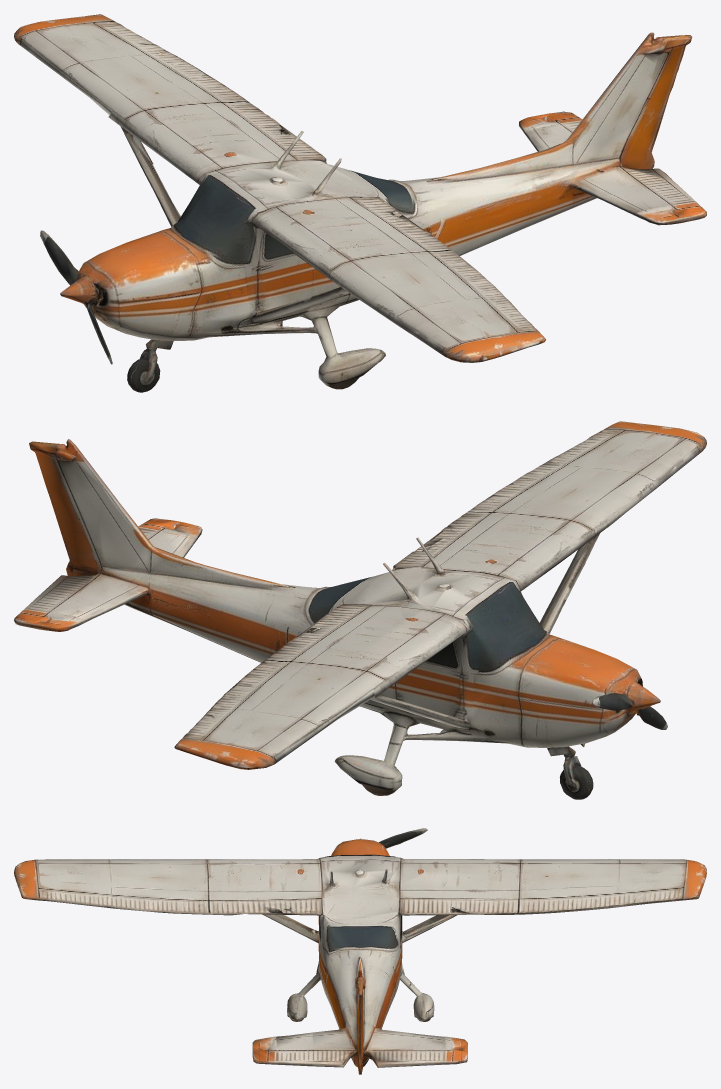
3 views of the same model, one above another, from view 1: azimuth 30°, elevation 25°; view 2: azimuth 150°, elevation 25°; view 3: azimuth 270°, elevation 25° (orthographic). The views are drawn at different scales.
Parts seen in each view (by area): view 1: Mesh_0; view 2: Mesh_0; view 3: Mesh_0.
Part boxes in pixels (left/top/right/bottom): Mesh_0: left=14, top=14, right=706, bottom=392; Mesh_0: left=14, top=421, right=706, bottom=799; Mesh_0: left=14, top=828, right=706, bottom=1074.
Bounding box in the file's own units: 1.52 × 0.5494 × 1.9.
1 material, 1 textured.
